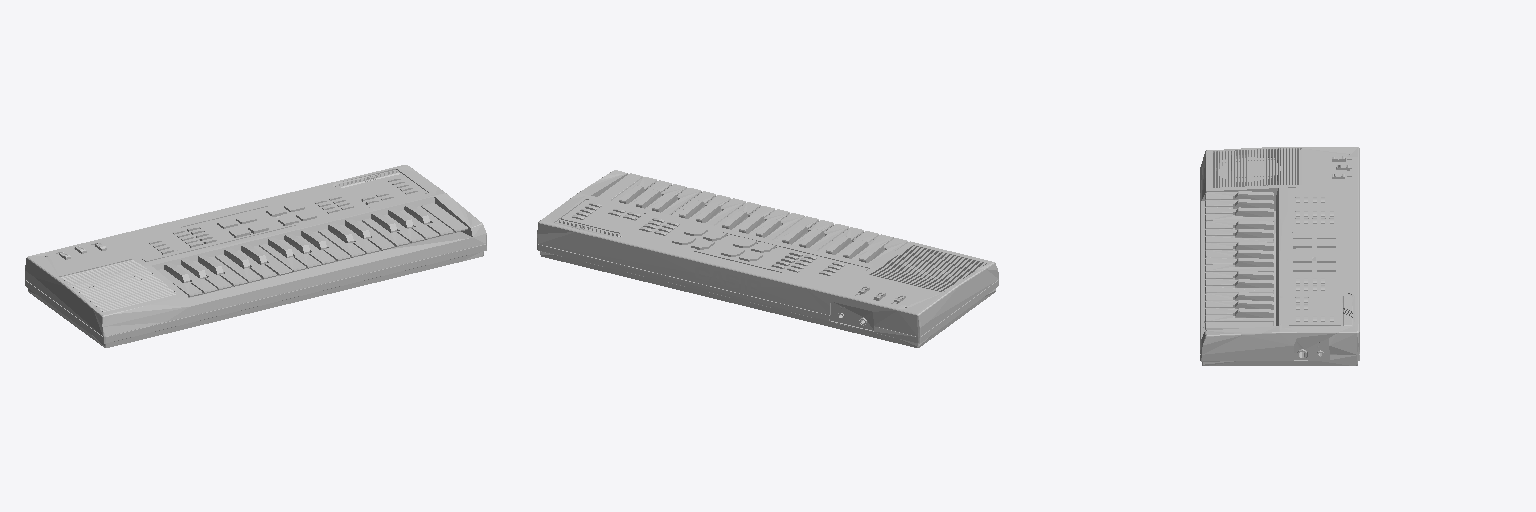
File: Keyboard CASIO K-5.obj
The picture shows the model from 3 angles: view 1: azimuth 30°, elevation 25°; view 2: azimuth 150°, elevation 25°; view 3: azimuth 270°, elevation 25°; orthographic projection.
Parts seen in each view (by area): view 1: (null); view 2: (null); view 3: (null).
Boxes of the visible parts, <box> form: (null): <box>25,165,486,347</box>; (null): <box>537,170,998,347</box>; (null): <box>1200,147,1359,365</box>.
Bounding box in the file's own units: 6496 × 645 × 2345.